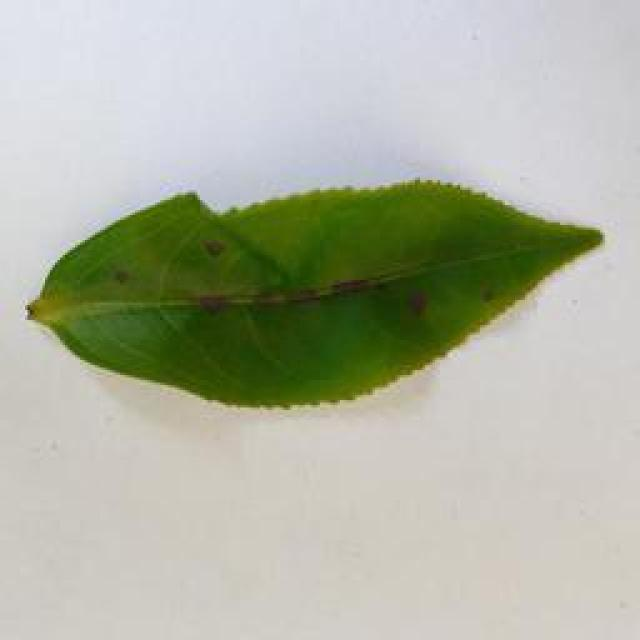Helopeltis: (12, 175, 603, 410)
